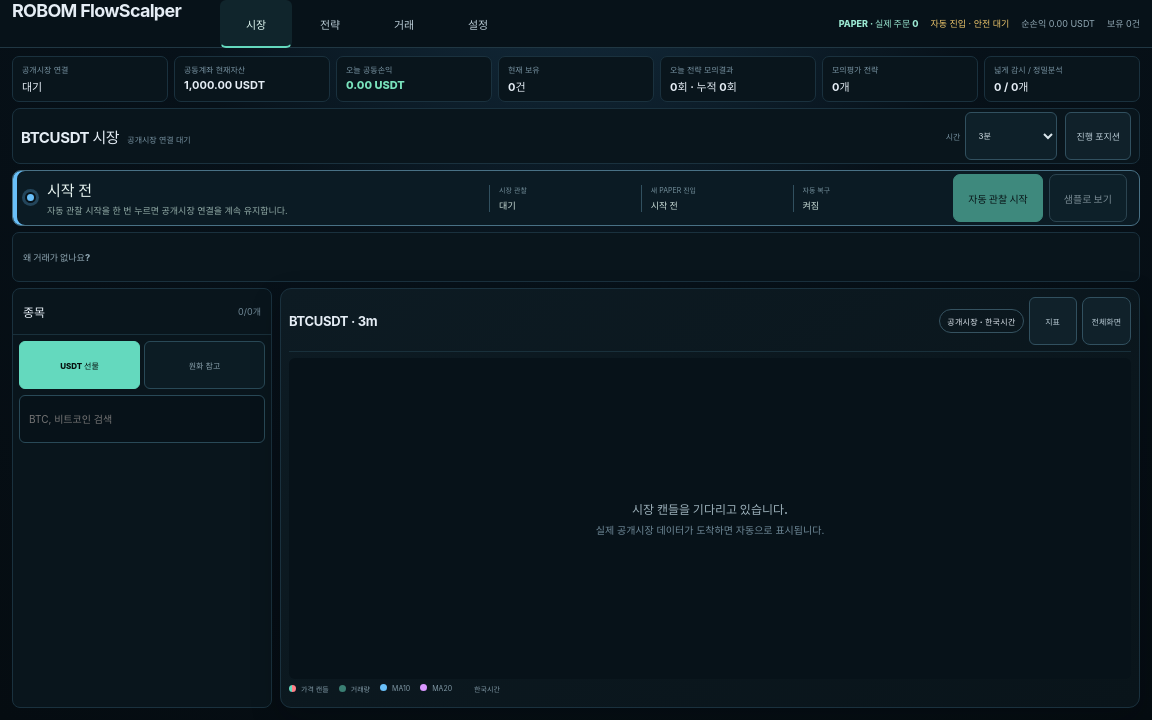
Scenario: uses exactly four primary pages without secondary navigation
Expected: the text "PAPER · 실제 주문 0" is shown, [839,17,918,30]
Step 1. Click the button "전략" → (330, 24), box [294,0,366,48]
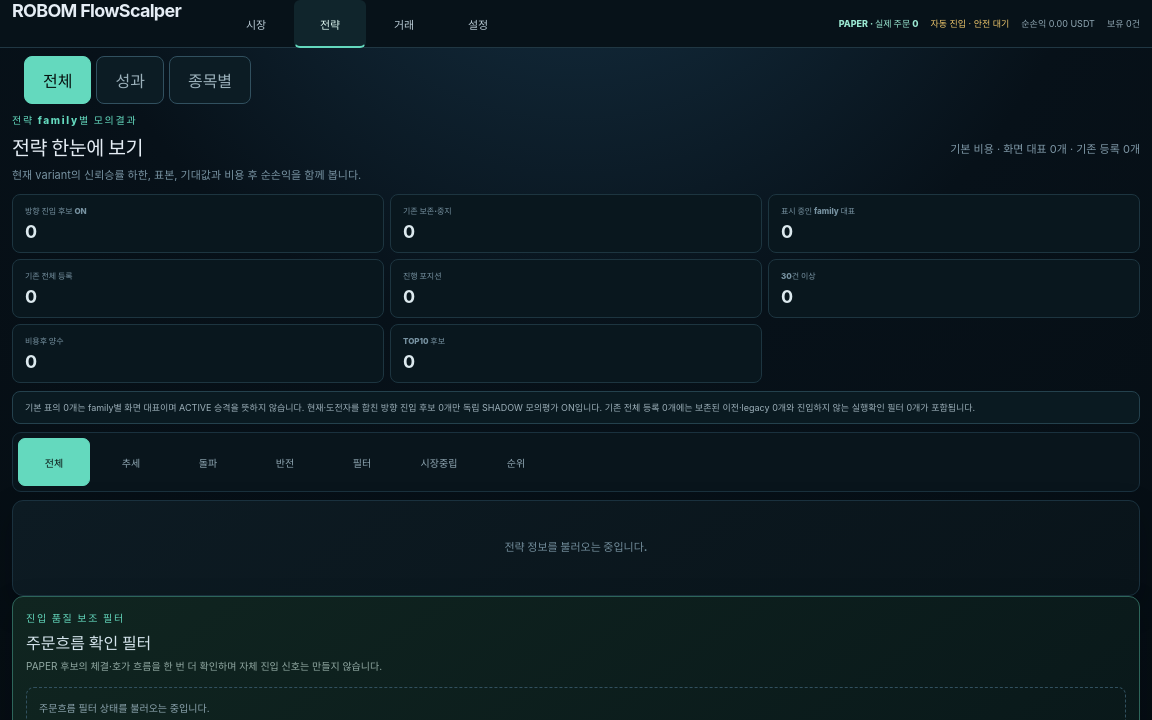
Expected: the text "PAPER · 실제 주문 0" is shown, [839,17,918,30]
Expected: the heading "전략 한눈에 보기" is shown, [12,136,143,160]
Step 2. Click the button "거래" → (404, 24), box [368,0,440,48]
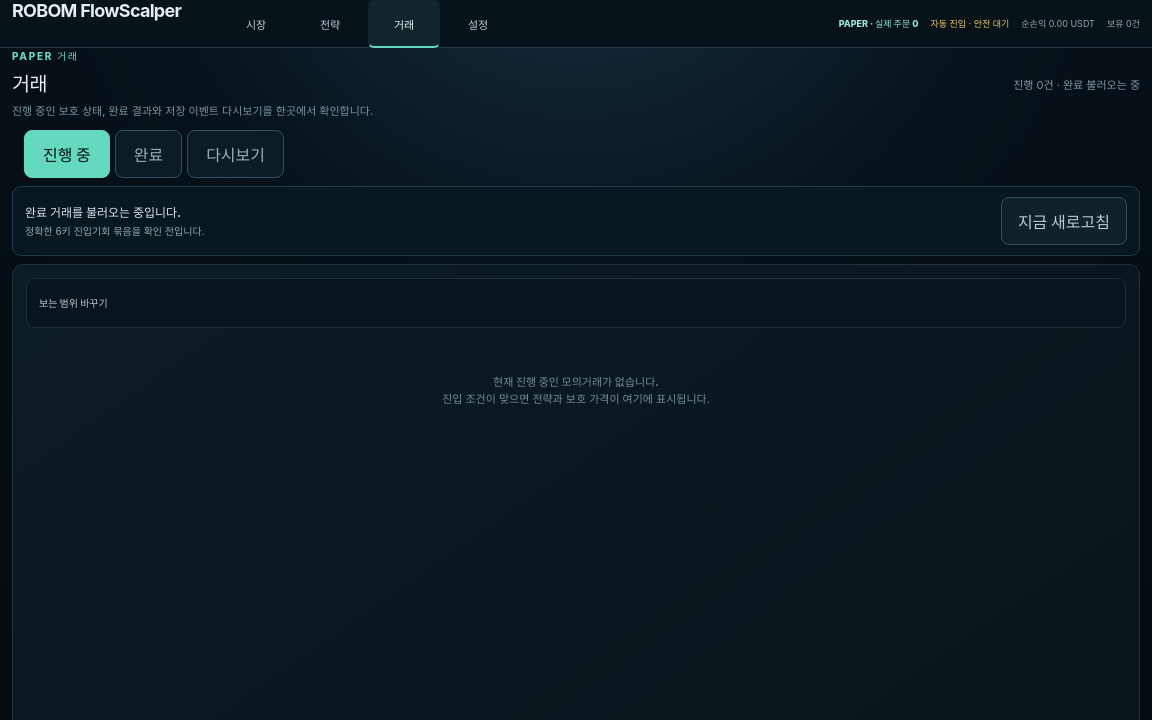
Expected: the text "PAPER · 실제 주문 0" is shown, [839,17,918,30]
Expected: the heading "거래" is shown, [12,72,47,96]
Step 3. Click the button "설정" → (478, 24), box [442,0,514,48]
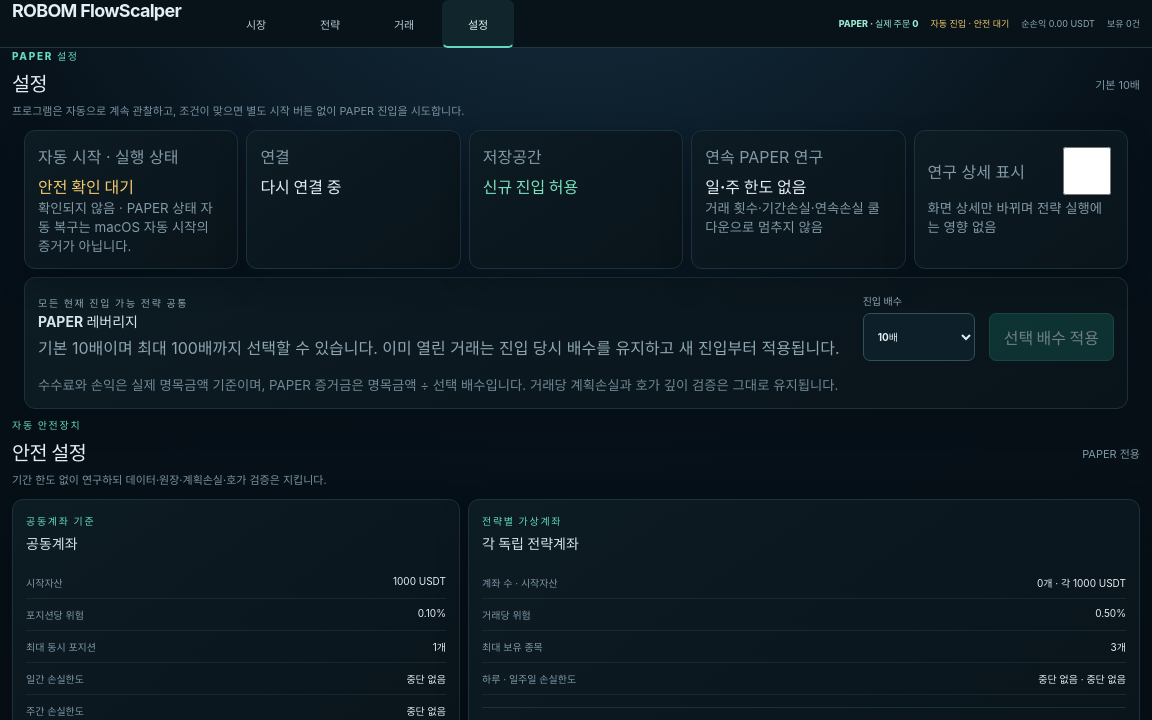
Expected: the text "PAPER · 실제 주문 0" is shown, [839,17,918,30]
Expected: the heading "설정" is shown, [12,72,47,96]
Step 4. Click the button "시장" → (256, 24), box [220,0,292,48]
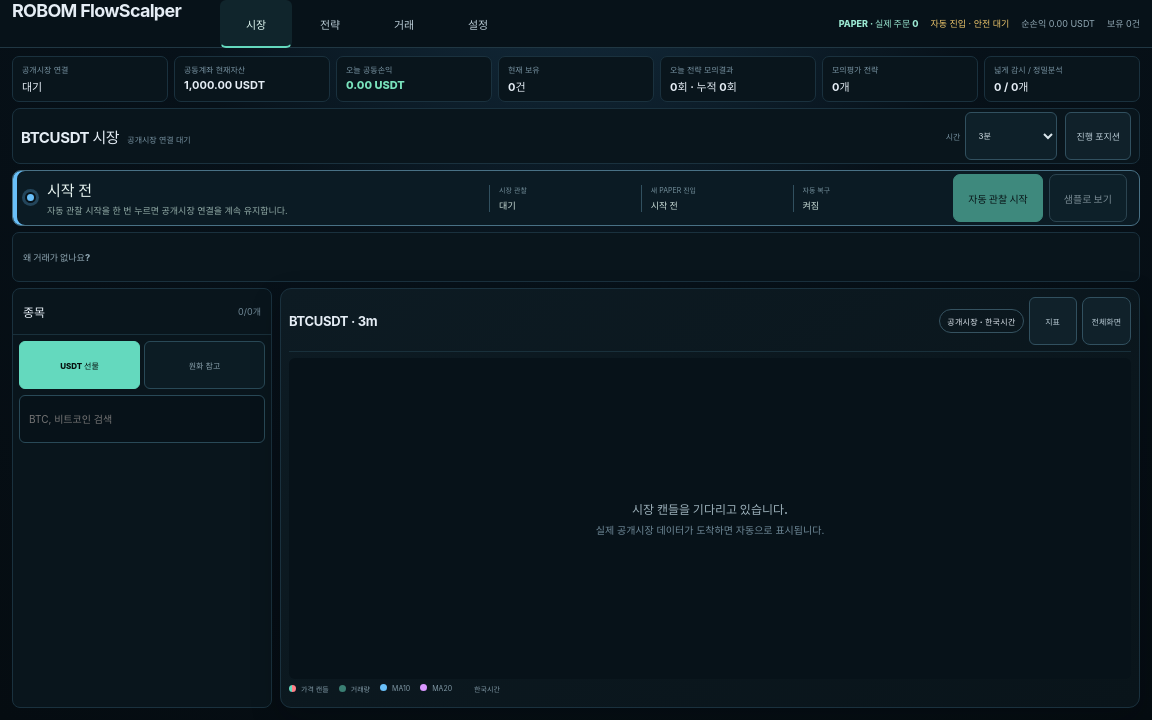
Expected: the text "PAPER · 실제 주문 0" is shown, [839,17,918,30]
Expected: the heading "BTCUSDT 시장" is shown, [21,128,119,146]
